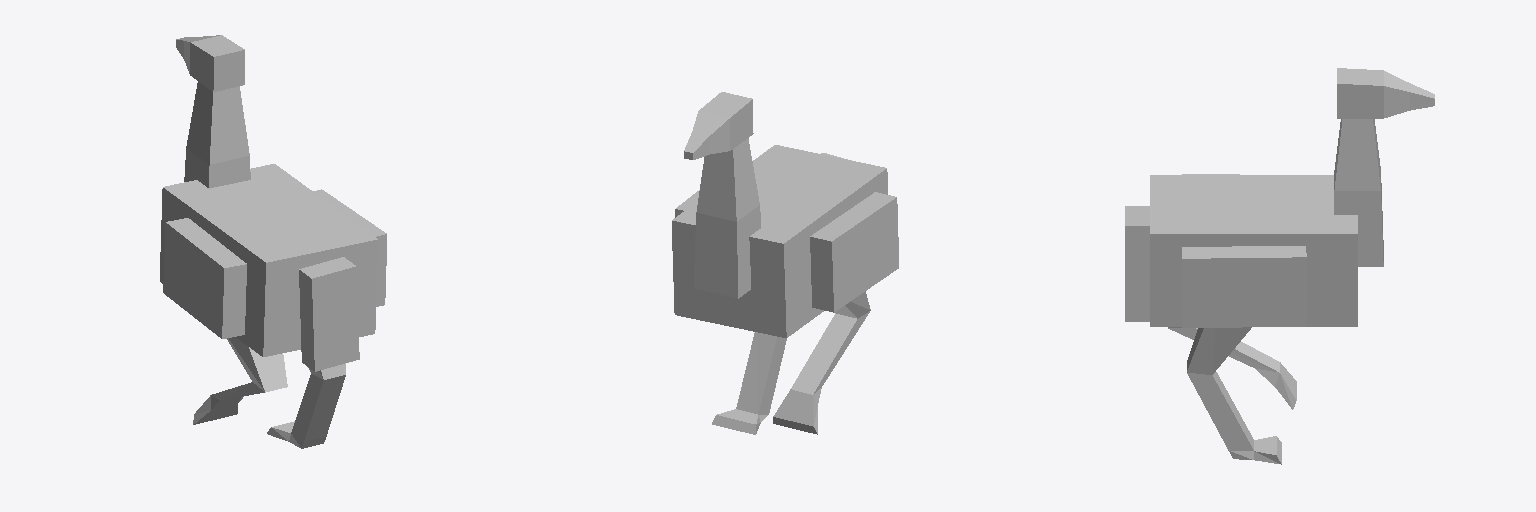
File: Ostrich_000199.obj
3 renders of one model, left to right at view 1: azimuth 30°, elevation 25°; view 2: azimuth 150°, elevation 25°; view 3: azimuth 270°, elevation 25°, orthographic.
Parts seen in each view (by area): view 1: Cube_Cube.001; view 2: Cube_Cube.001; view 3: Cube_Cube.001.
Part boxes in pixels (bbox=[...]): Cube_Cube.001: bbox=[160, 35, 386, 448]; Cube_Cube.001: bbox=[672, 92, 898, 434]; Cube_Cube.001: bbox=[1125, 68, 1434, 464].
Size of the model in its own units: 0.7369 by 1.54 by 1.2.